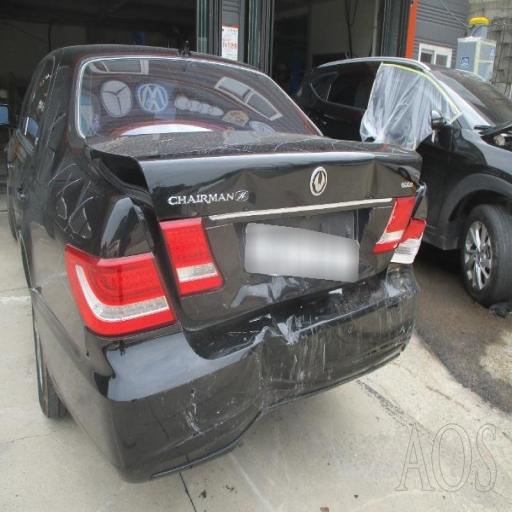dent: (95, 126, 410, 304), (235, 328, 359, 408)
scratch: (177, 314, 415, 392)
